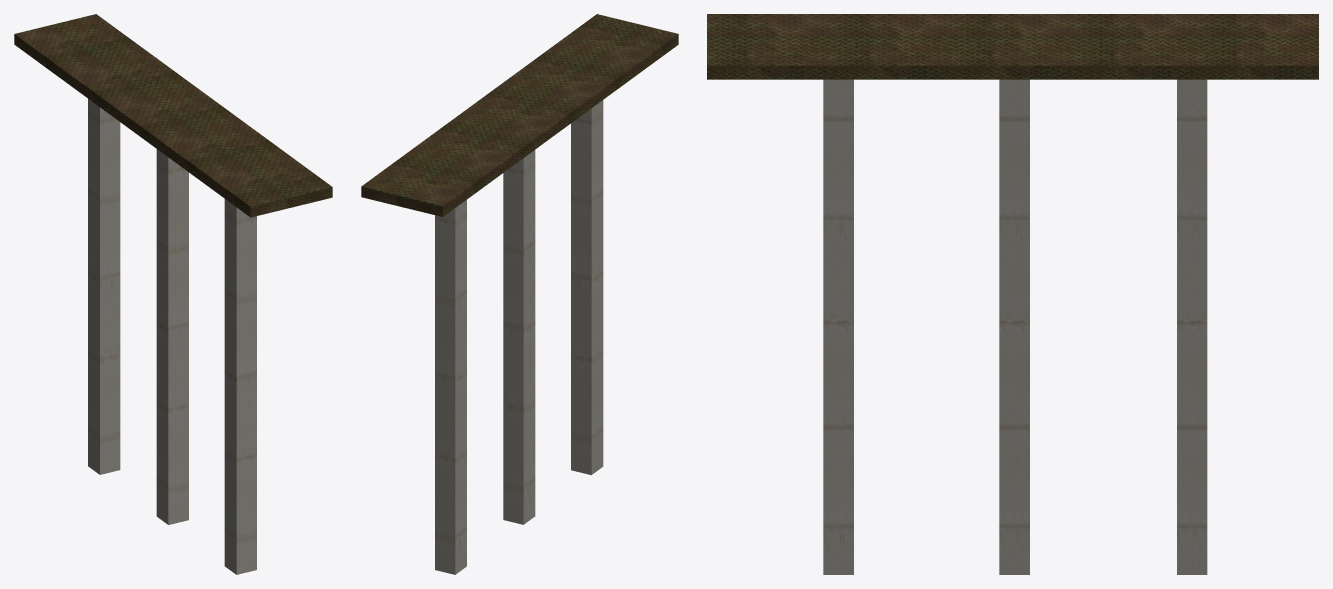
The model's file is parkour_most.glb.
3 views of the same model, side by side, from view 1: azimuth 30°, elevation 25°; view 2: azimuth 150°, elevation 25°; view 3: azimuth 270°, elevation 25° (orthographic). The views are drawn at different scales.
Parts seen in each view (by area): view 1: Cube-col, Cube.001-col, Cube.002-col, Cube.003-col; view 2: Cube-col, Cube.001-col, Cube.002-col, Cube.003-col; view 3: Cube-col, Cube.001-col, Cube.002-col, Cube.003-col.
Part boxes in pixels (x1=…): Cube-col: x1=14, y1=14, x2=332, y2=217; Cube.001-col: x1=224, y1=199, x2=256, y2=574; Cube.002-col: x1=156, y1=149, x2=188, y2=524; Cube.003-col: x1=88, y1=99, x2=120, y2=474; Cube-col: x1=361, y1=14, x2=678, y2=216; Cube.001-col: x1=571, y1=100, x2=603, y2=475; Cube.002-col: x1=503, y1=150, x2=535, y2=524; Cube.003-col: x1=435, y1=200, x2=466, y2=574; Cube-col: x1=707, y1=14, x2=1318, y2=79; Cube.001-col: x1=823, y1=79, x2=853, y2=574; Cube.002-col: x1=999, y1=79, x2=1029, y2=574; Cube.003-col: x1=1177, y1=79, x2=1207, y2=574.
Bounding box in the file's own units: 8 × 38.14 × 40.
Materials: 2 (2 with a texture image).
